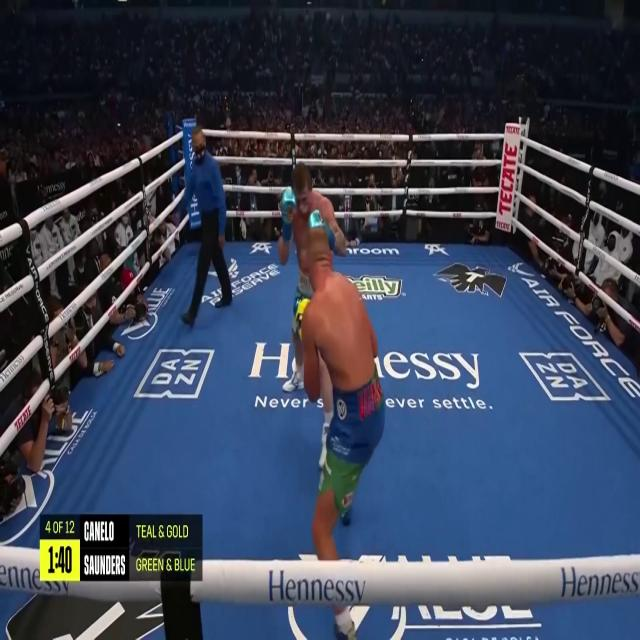boxer_1: (302, 228, 378, 400)
boxer_2: (292, 163, 347, 297)
gloves_1: (292, 287, 311, 340)
gloves_2: (309, 208, 335, 248), (282, 186, 297, 242)
